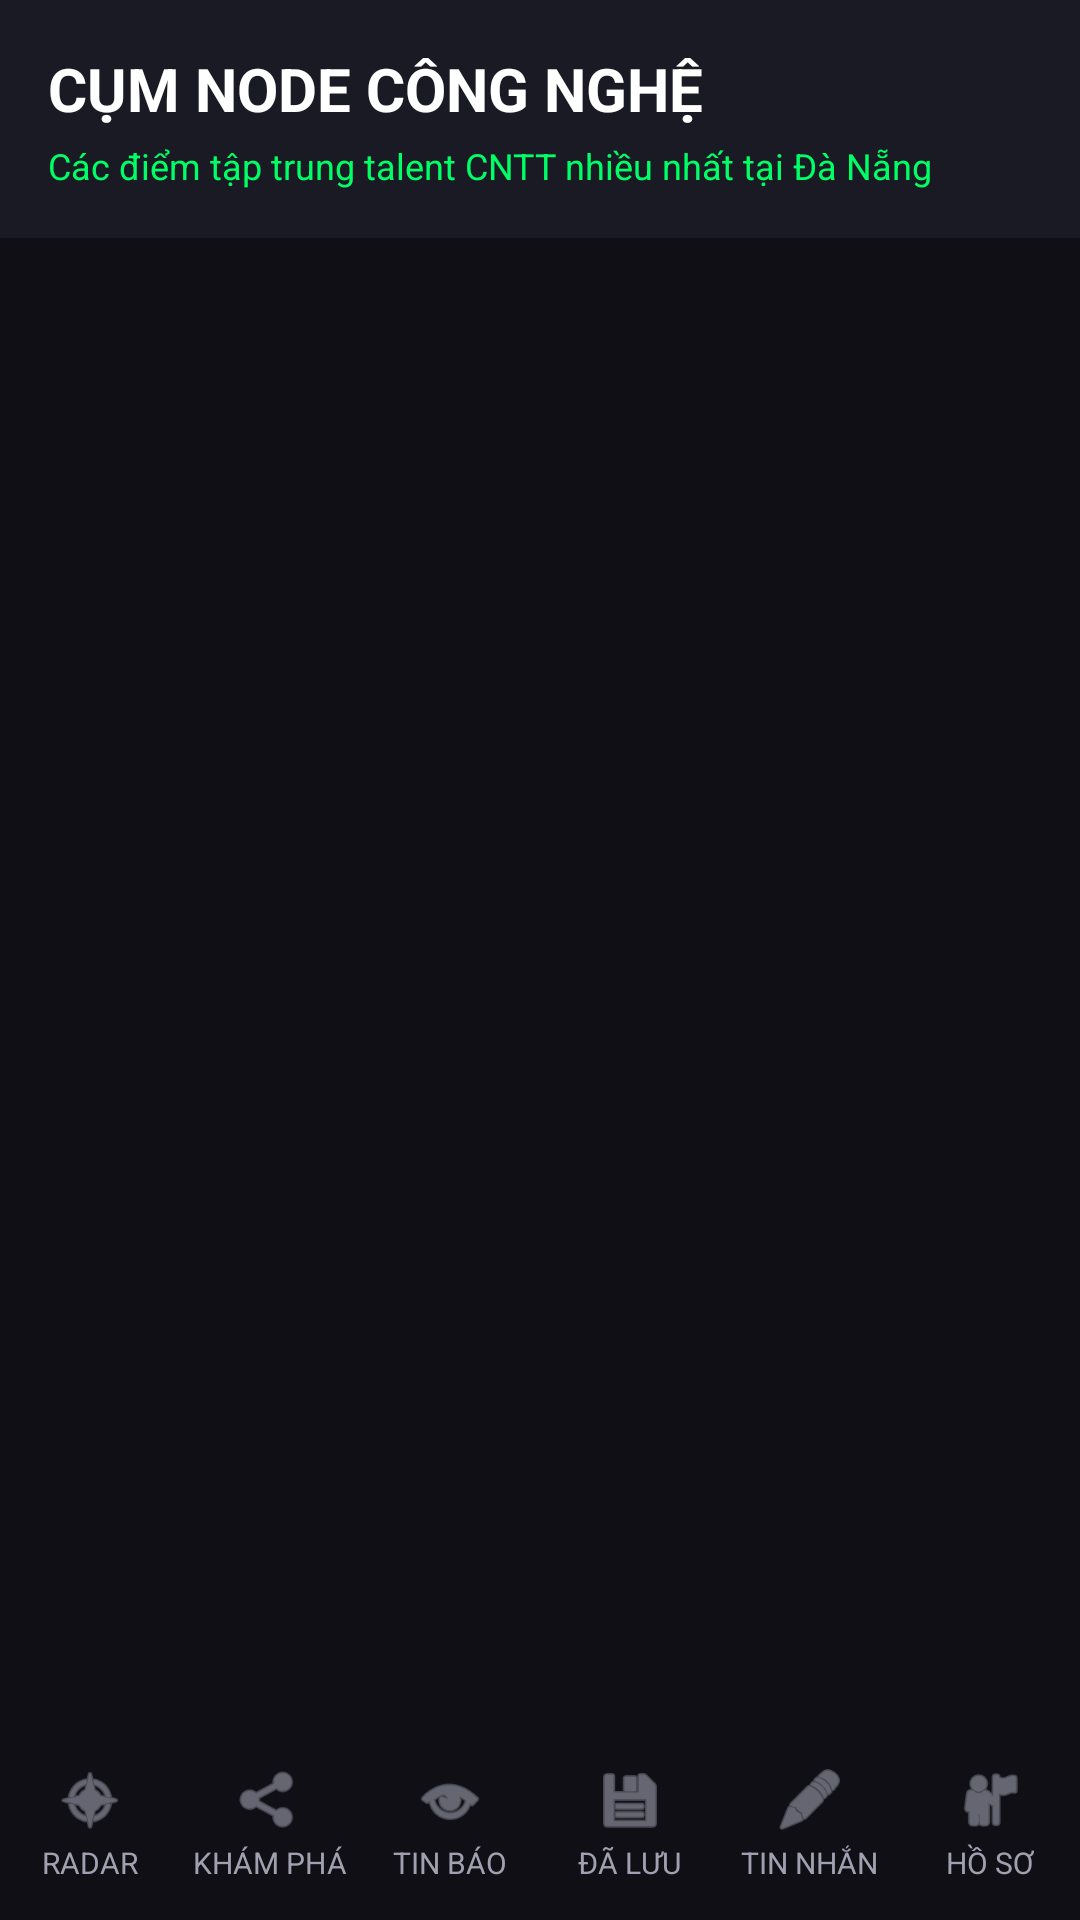

Screen size 1080×1920. Icon name, then its box in pixels as (x1,y1,x2,y2):
compass: (61,1772,118,1829)
edit: (779,1769,840,1830)
myplaces: (964,1773,1018,1827)
share: (239,1772,293,1828)
view: (421,1784,479,1820)
